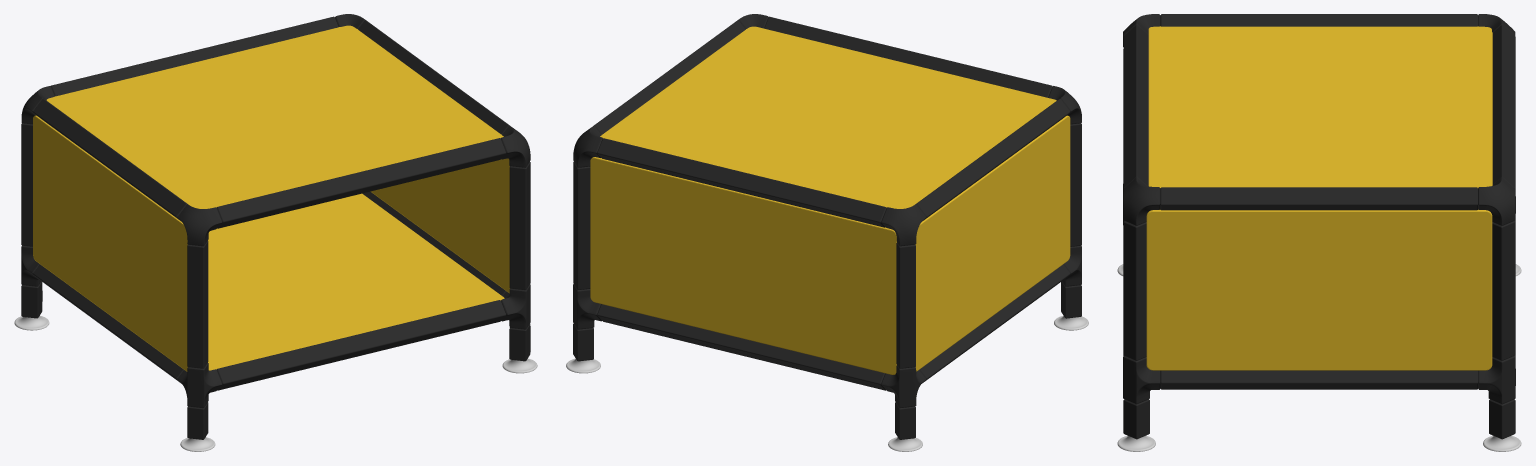
The picture shows the model from 3 angles, left to right: view 1: azimuth 30°, elevation 25°; view 2: azimuth 150°, elevation 25°; view 3: azimuth 270°, elevation 25°; orthographic projection. The views are drawn at different scales.
Visible parts, largest first — view 1: 374x329x154; view 2: 374x329x154; view 3: 374x329x154.
Part boxes in pixels (bbox=[...]): 374x329x154: bbox=[14, 14, 537, 451]; 374x329x154: bbox=[566, 14, 1088, 451]; 374x329x154: bbox=[1117, 14, 1521, 451].
Bounding box in the file's own units: 0.4639 × 0.2933 × 0.4182.
